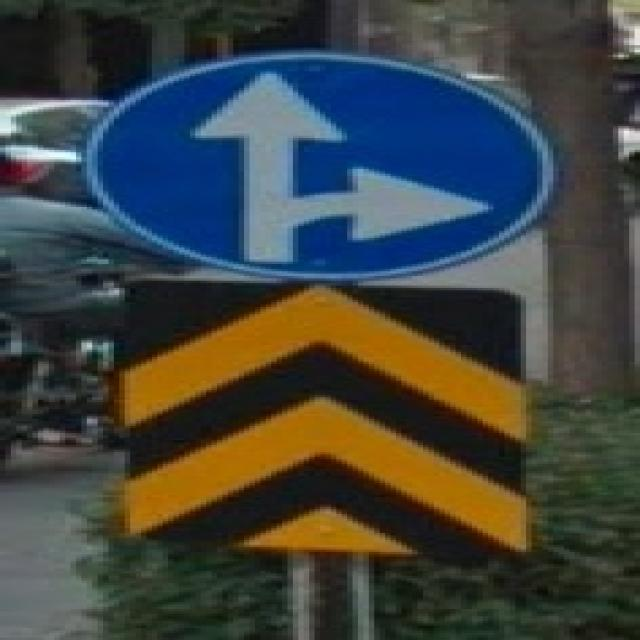Straight or Right: (99, 55, 543, 281)
